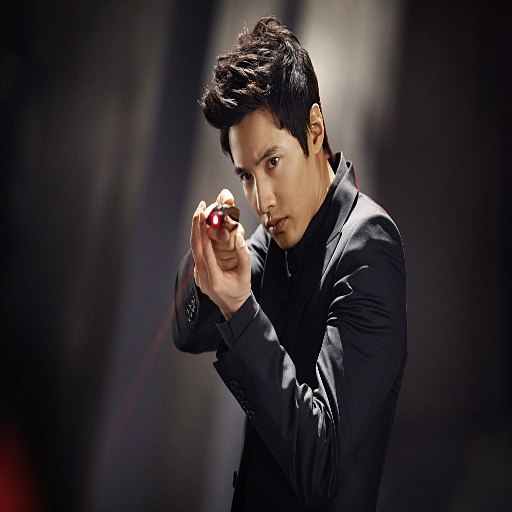hand: (204, 188, 245, 273)
